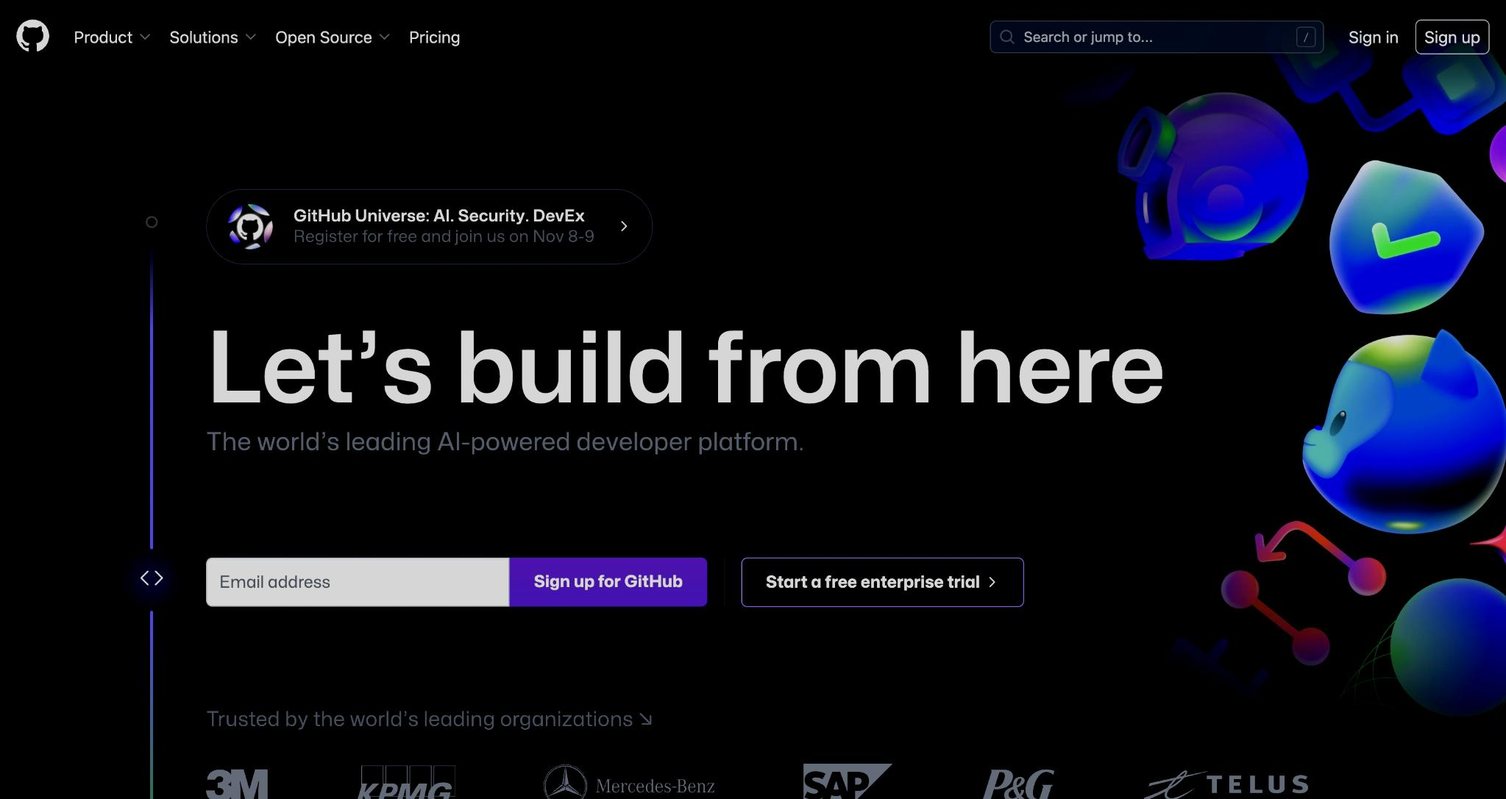webelement: (0, 0, 1505, 72), (206, 323, 1164, 418), (205, 426, 1408, 458), (205, 704, 1408, 733), (206, 188, 652, 264), (65, 16, 468, 56), (205, 557, 508, 606), (741, 557, 1023, 607), (509, 557, 707, 606), (542, 762, 715, 799), (1024, 26, 1296, 46), (267, 16, 401, 56), (1141, 768, 1308, 799), (160, 16, 265, 56), (65, 16, 160, 56), (355, 764, 455, 799), (803, 762, 892, 799), (400, 16, 468, 56), (1414, 19, 1489, 53), (205, 761, 267, 799), (980, 768, 1054, 799), (1349, 24, 1399, 48), (15, 18, 48, 54)
